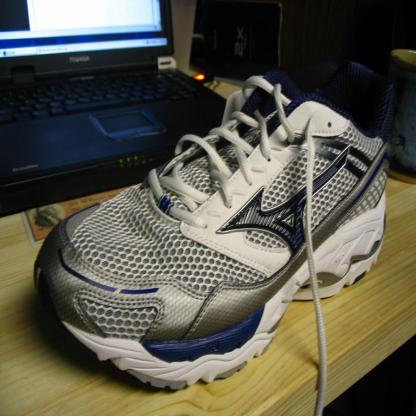board: (3, 6, 223, 197)
